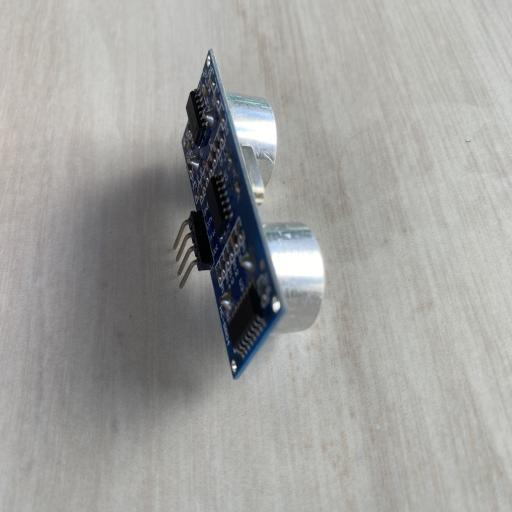Ultrasonic Sensor: (172, 48, 325, 381)
